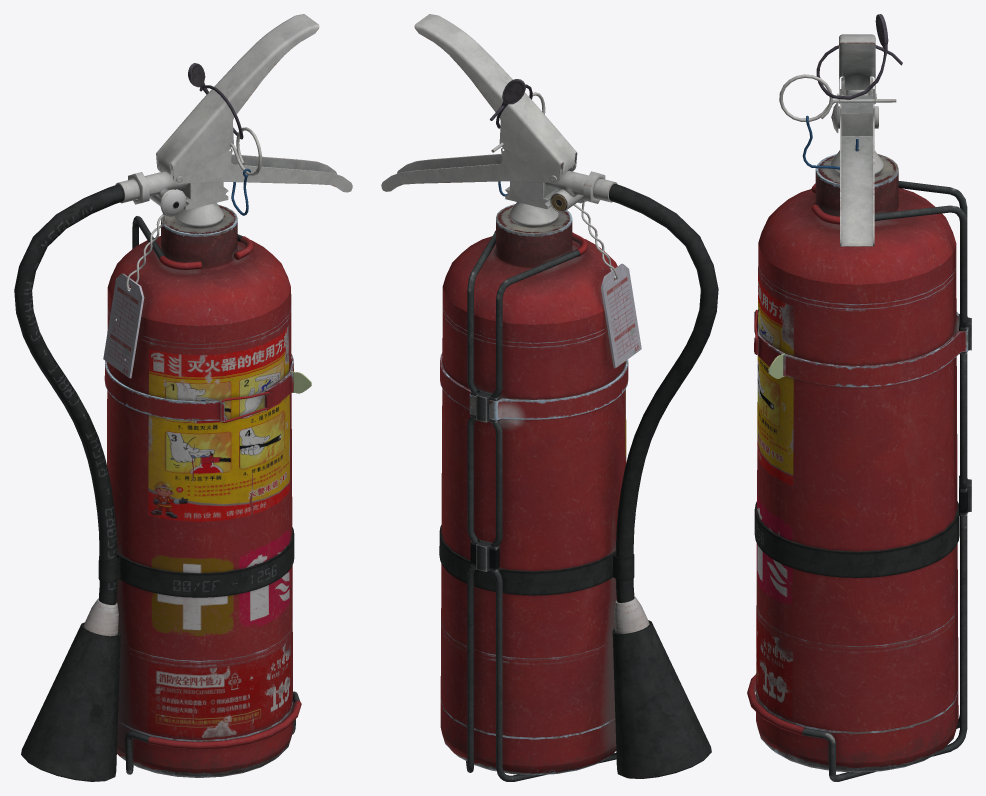
File: fire-extinguisher.glb
3 views of the same model, side by side, from view 1: azimuth 30°, elevation 25°; view 2: azimuth 150°, elevation 25°; view 3: azimuth 270°, elevation 25° (orthographic). The views are drawn at different scales.
Visible parts, largest first — view 1: TL_miehuoqi_low_uv_005; view 2: TL_miehuoqi_low_uv_005; view 3: TL_miehuoqi_low_uv_005.
Part boxes in pixels (x1,y1,x2,y2): TL_miehuoqi_low_uv_005: [14, 14, 352, 781]; TL_miehuoqi_low_uv_005: [381, 14, 718, 781]; TL_miehuoqi_low_uv_005: [747, 14, 971, 781].
Size of the model in its own units: 0.3017 by 0.6146 by 0.1654.
Materials: 1 (1 with a texture image).
